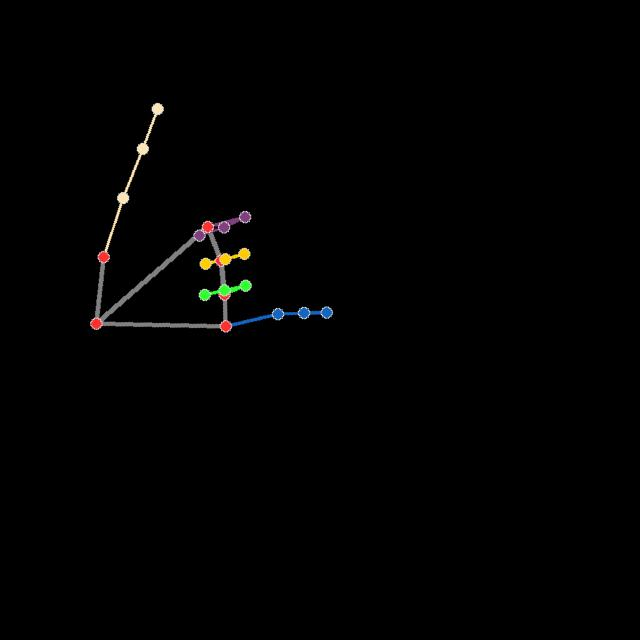skr: (82, 97, 334, 333)
